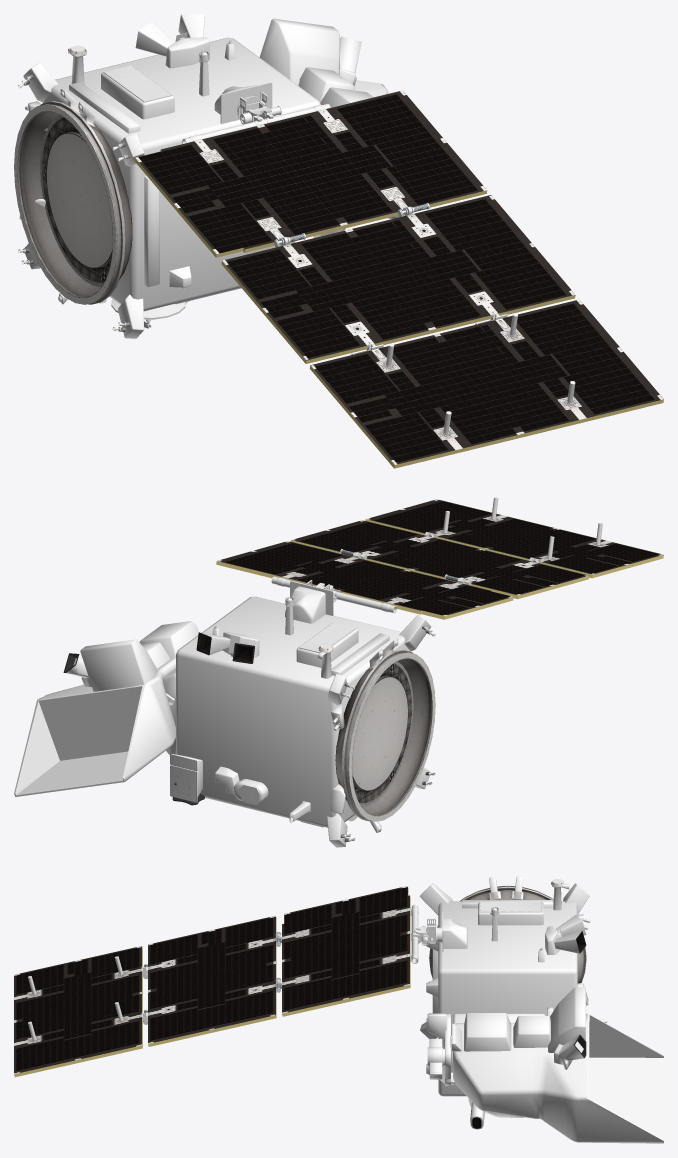
Rendered from pace.glb.
The picture shows the model from 3 angles, top to bottom: view 1: azimuth 30°, elevation 25°; view 2: azimuth 150°, elevation 25°; view 3: azimuth 270°, elevation 25°; orthographic projection. The views are drawn at different scales.
Parts seen in each view (by area): view 1: solar_1, bus_35, bus_33, bus_1; view 2: bus_35, solar_1, bus_33, bus_26; view 3: bus_35, solar_1, bus_33.
Part boxes in pixels (x1,y1,x2,y2): solar_1: [134, 90, 663, 468]; bus_35: [19, 14, 404, 338]; bus_33: [14, 45, 171, 331]; bus_1: [220, 82, 272, 123]; bus_35: [14, 586, 431, 847]; solar_1: [216, 499, 663, 619]; bus_33: [170, 622, 435, 841]; bus_26: [271, 576, 396, 613]; bus_35: [419, 876, 663, 1143]; solar_1: [14, 886, 410, 1077]; bus_33: [429, 879, 586, 983].
Size of the model in its own units: 3.48 by 2.25 by 7.01.
9 materials, 2 textured.
